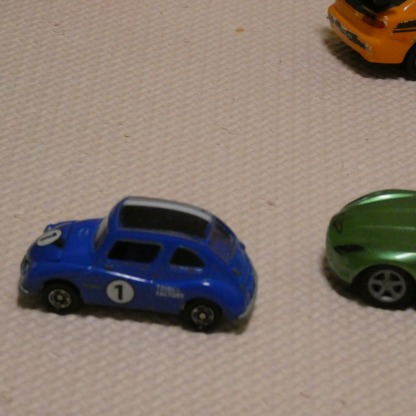car: (25, 196, 255, 331), (324, 183, 416, 308), (324, 0, 415, 75)
